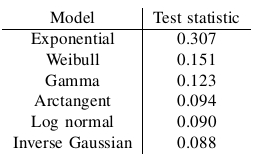column: (1, 1, 142, 166), (141, 1, 253, 165)
row: (1, 134, 253, 164), (1, 1, 253, 29), (1, 66, 253, 92), (1, 28, 253, 50), (1, 110, 253, 132), (1, 48, 253, 69), (1, 92, 253, 112)
